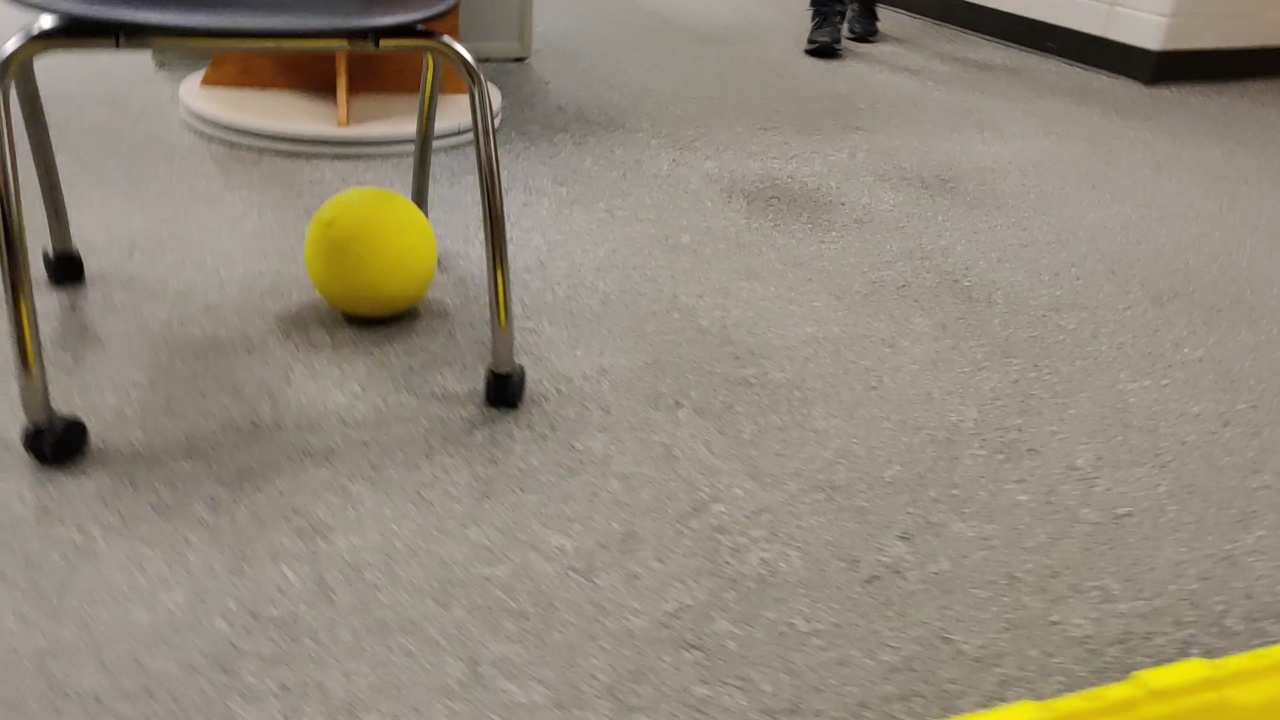Ball: (304, 184, 439, 324)
